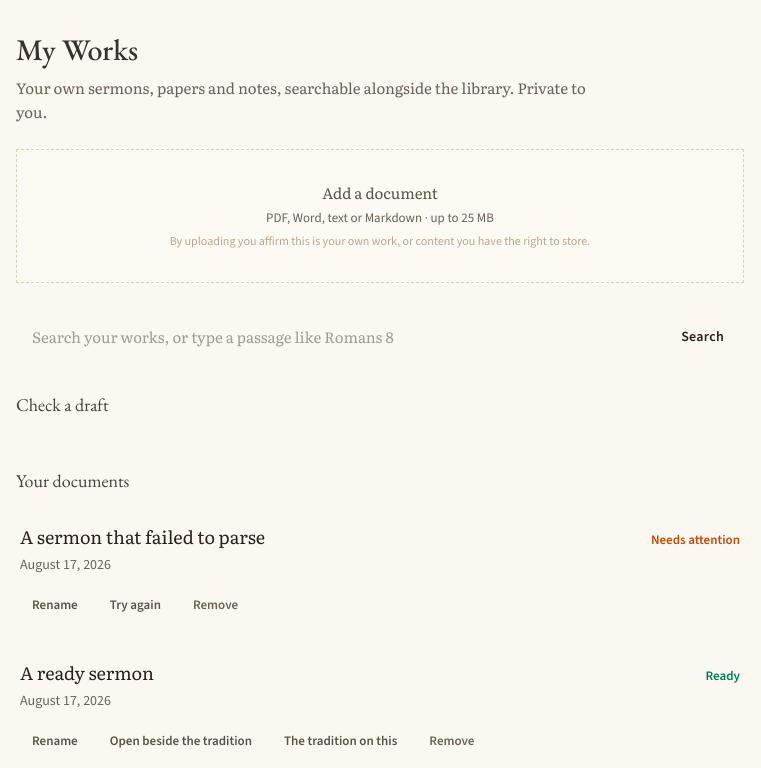
Test case: D16 — the server's sentences reach the screen › a failed remove says so instead of silently keeping the row
What coordinates should you click on to do the following:
click the button "Remove" in the row of "Open beside the tradition"
I would click on:
 (452, 741)
Its box is [417,719,486,763].
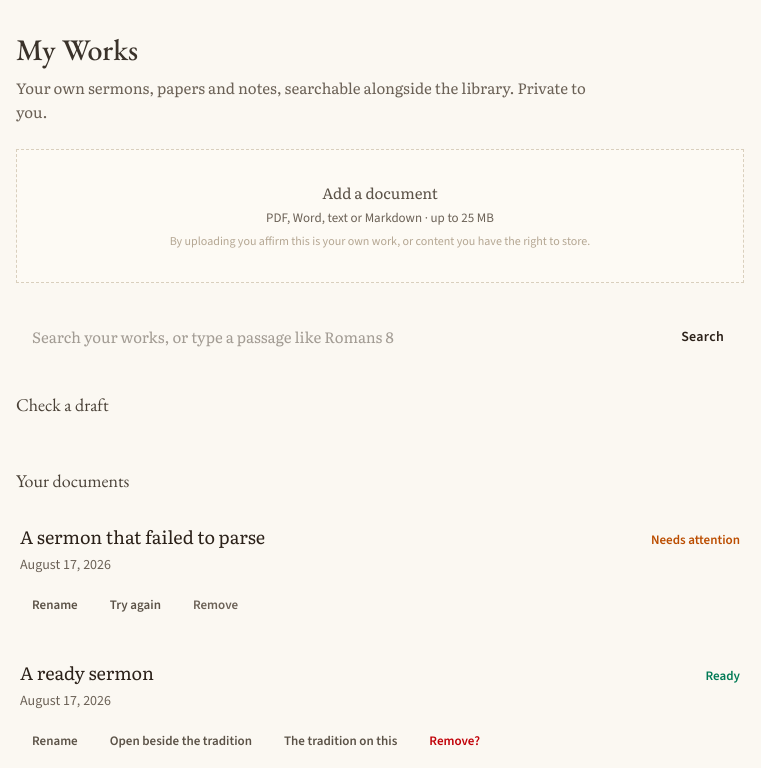
What coordinates should you click on to do the following:
click the button "Remove?"
I would click on:
 (455, 741)
Its box is [417,719,492,763].
(page scrolled)
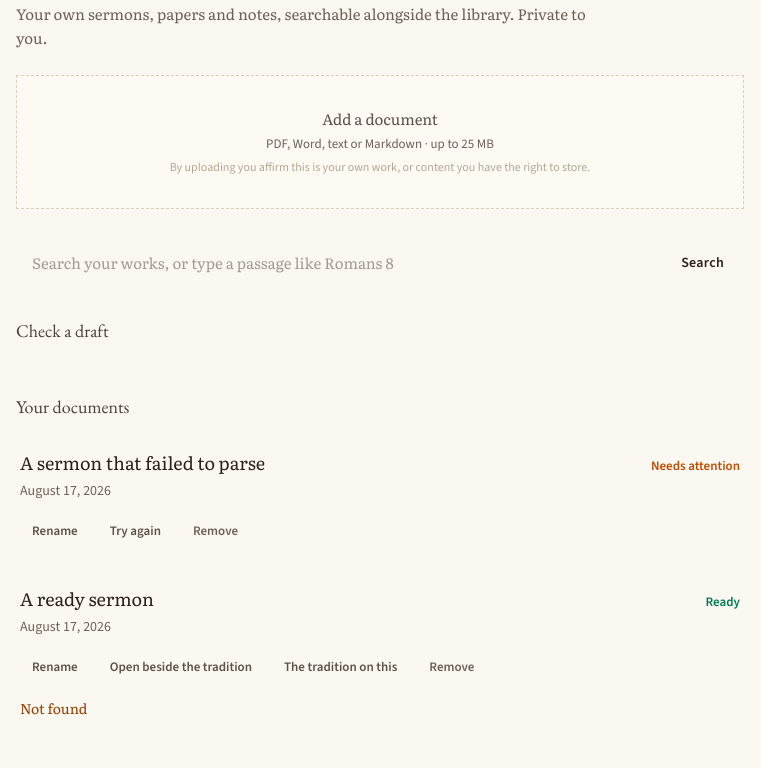
expect the text "Not found" is shown: met, box [20,698,87,718]
